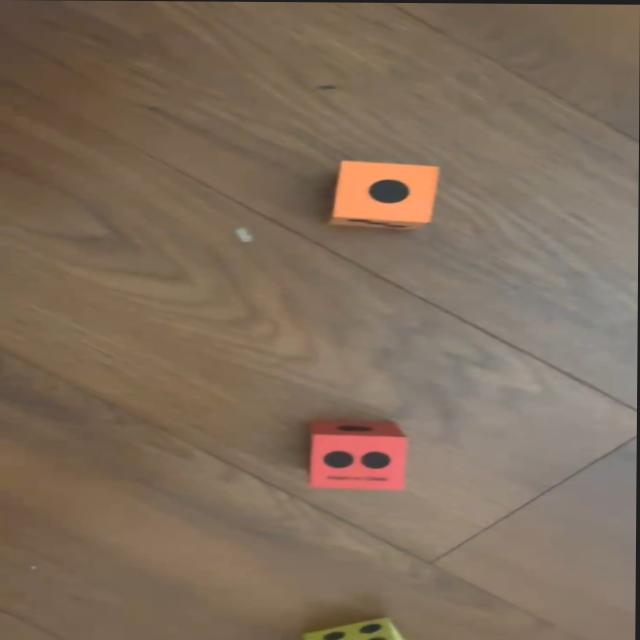red_block: (310, 422, 409, 490)
